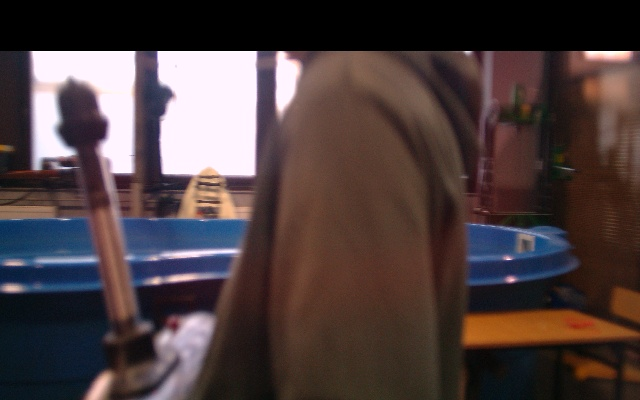black: (84, 190, 140, 331)
